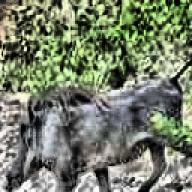boar: (1, 60, 192, 192)
